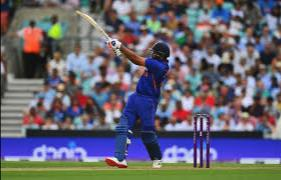batsman: (105, 30, 188, 180)
